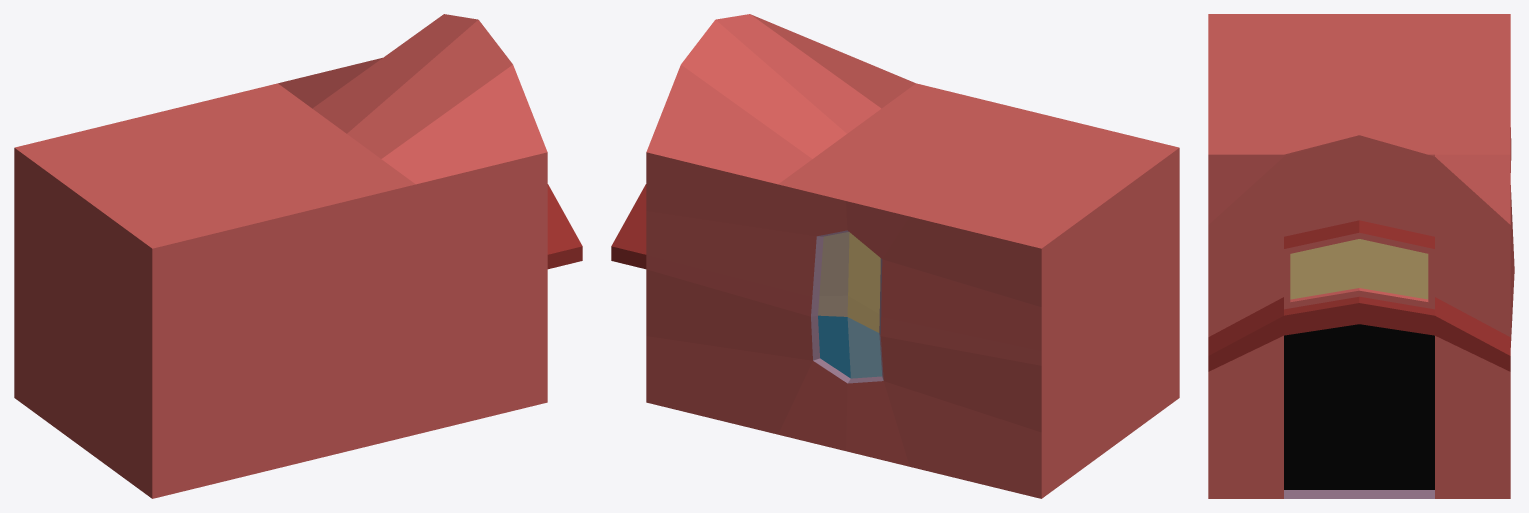
The model's file is 5_building.fbx.
The picture shows the model from 3 angles, left to right: view 1: azimuth 30°, elevation 25°; view 2: azimuth 150°, elevation 25°; view 3: azimuth 270°, elevation 25°; orthographic projection. The views are drawn at different scales.
Parts seen in each view (by area): view 1: 16_building; view 2: 16_building; view 3: 16_building.
Part boxes in pixels (x1,y1,x2,y2): 16_building: [14, 14, 582, 498]; 16_building: [611, 14, 1179, 498]; 16_building: [1208, 14, 1514, 498].
Bounding box in the file's own units: 1622 × 1197 × 914.
